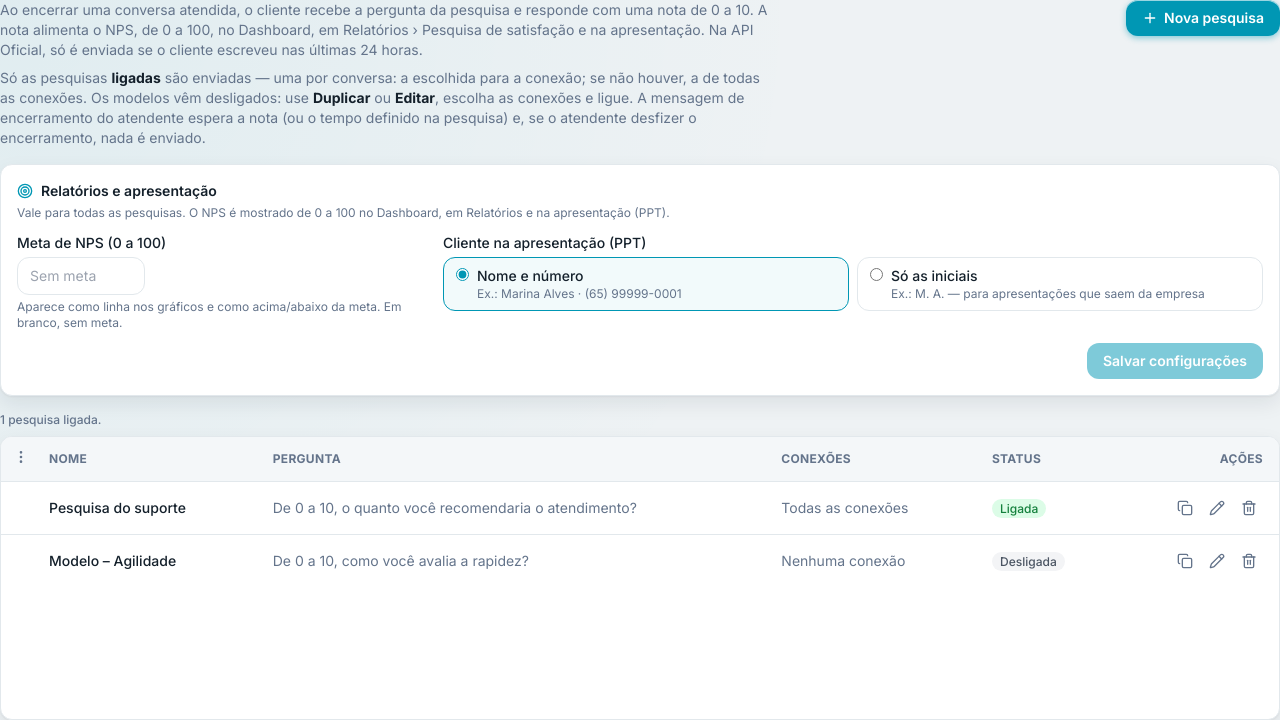
Test: Respostas › Pesquisa: lista de pesquisas › a espera 0 não pode ser salva
The width and height of the screenshot is (1280, 720).
Step 1. Click the button named "Editar Pesquisa do suporte" → (1217, 508), box [1203,494,1231,522]
(page scrolled)
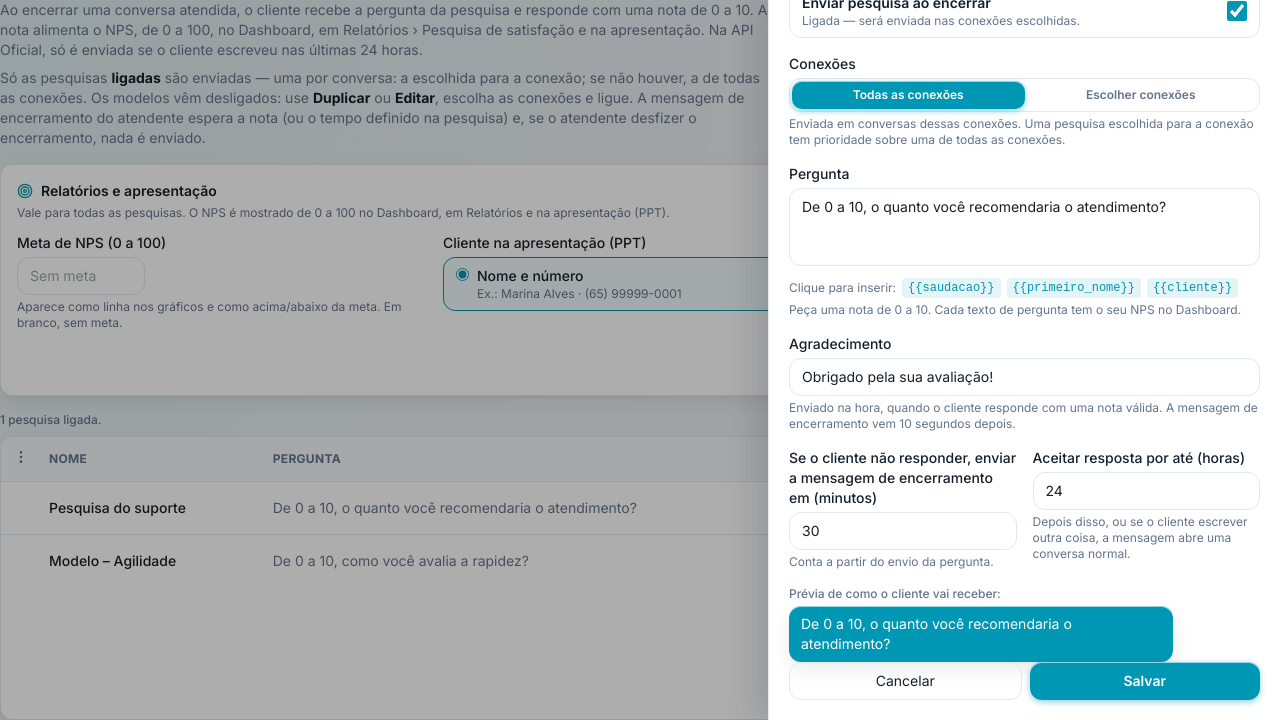
Step 2. Replace the text in the number field labelled "Se o cliente não responder, enviar a mensagem de encerramento em" with "0" → (903, 531), box [789,512,1016,550]
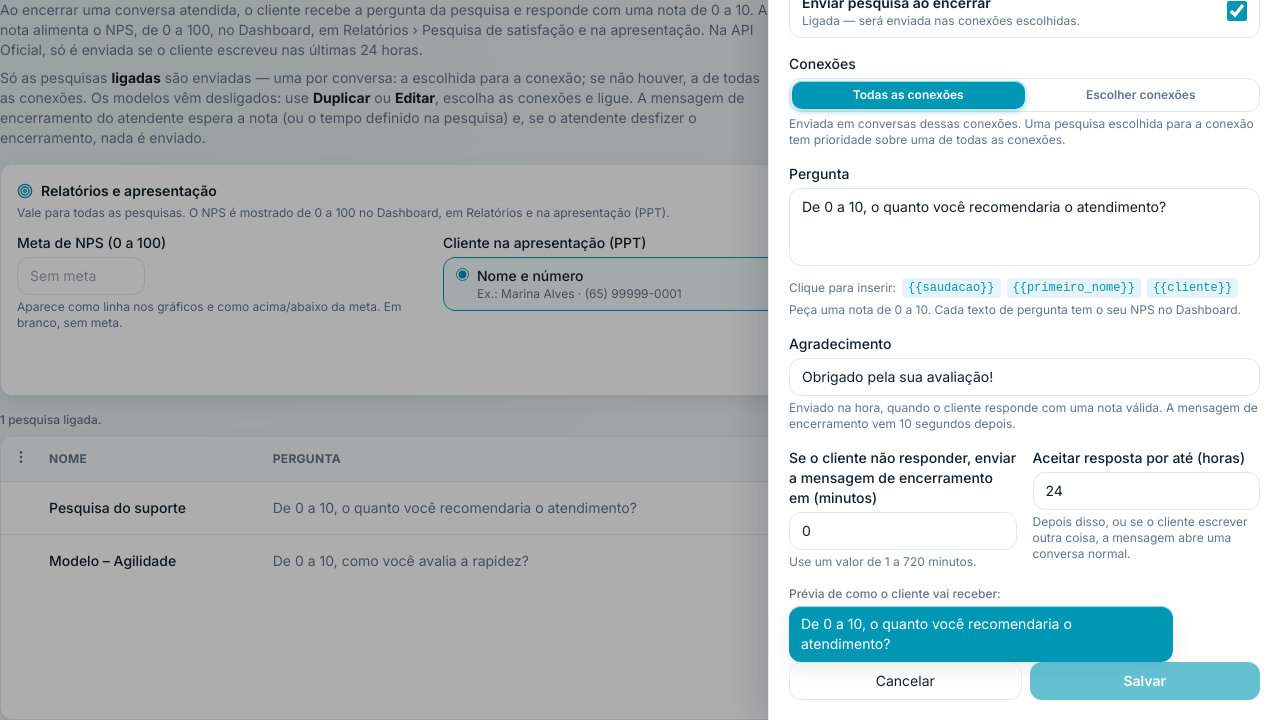
Expected: the button "Salvar" is disabled, [1030,662,1260,700]
Expected: the text "Use um valor de 1 a 720 minutos." is shown, [789,554,977,569]
